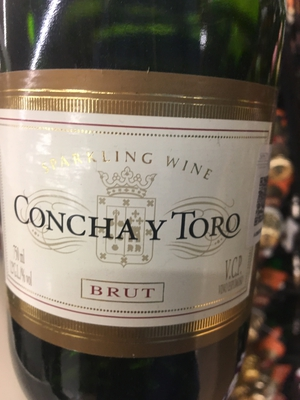brut: (3, 14, 278, 400)
